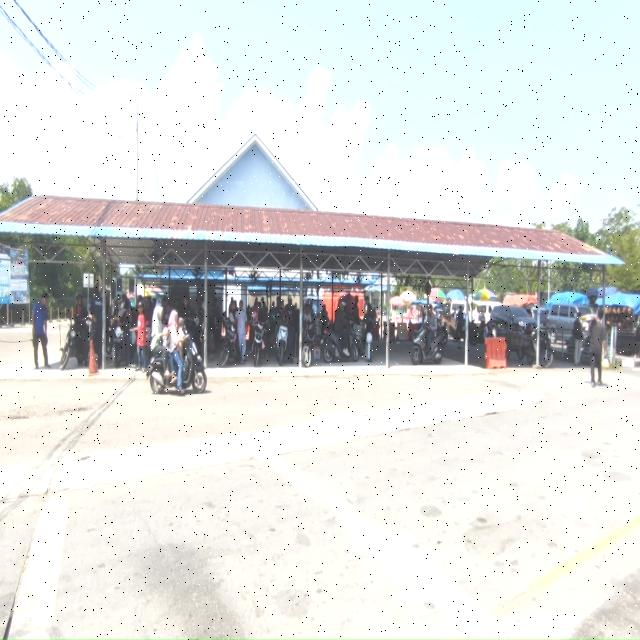Golongan II: (147, 335, 207, 394), (60, 320, 89, 370), (517, 329, 554, 368), (322, 327, 360, 363), (411, 324, 444, 365), (112, 307, 132, 368), (219, 318, 240, 368), (251, 321, 266, 366), (302, 321, 316, 368), (276, 324, 289, 366), (350, 322, 365, 357), (468, 322, 485, 346), (436, 322, 449, 347)
